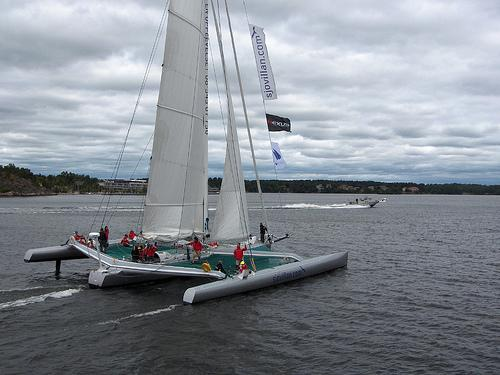Ship: (25, 1, 349, 312), (349, 197, 379, 209)
